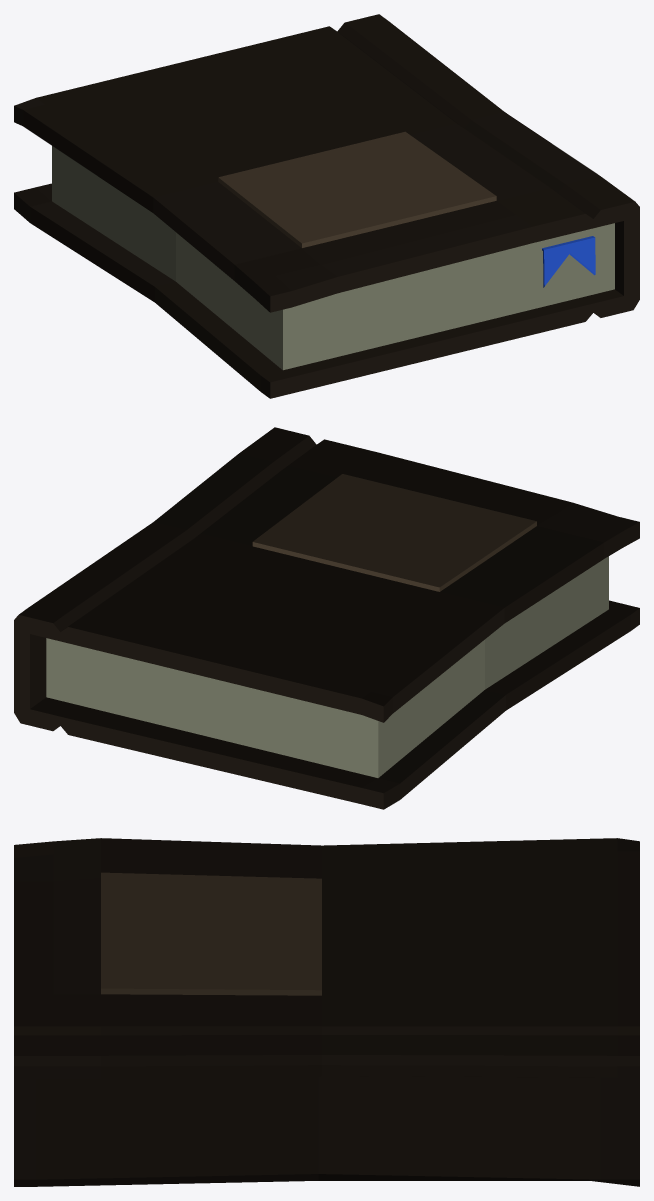
The model's file is libro - copia.obj.
3 views of the same model, one above another, from view 1: azimuth 30°, elevation 25°; view 2: azimuth 150°, elevation 25°; view 3: azimuth 270°, elevation 25° (orthographic). The views are drawn at different scales.
Parts seen in each view (by area): view 1: obj1, obj4, obj2, obj3; view 2: obj1, obj4, obj2; view 3: obj1, obj2.
Part boxes in pixels (x1=…): obj1: x1=14, y1=14, x2=639, y2=398; obj4: x1=52, y1=146, x2=614, y2=370; obj2: x1=218, y1=131, x2=496, y2=247; obj3: x1=542, y1=236, x2=595, y2=287; obj1: x1=14, y1=427, x2=639, y2=809; obj4: x1=46, y1=556, x2=608, y2=777; obj2: x1=252, y1=474, x2=536, y2=591; obj1: x1=14, y1=838, x2=639, y2=1186; obj2: x1=101, y1=872, x2=321, y2=995.
Size of the model in its own units: 0.4829 by 0.1408 by 0.5795.
